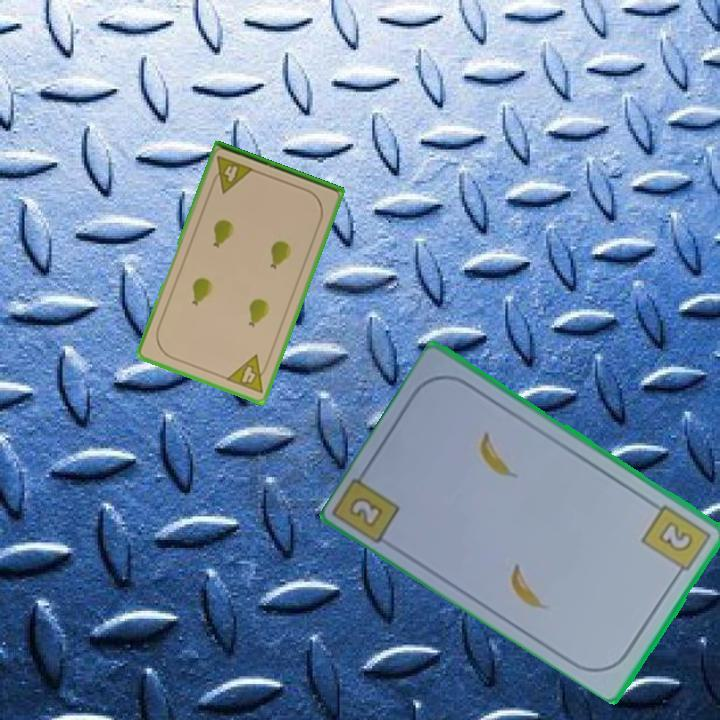2b: (639, 501, 715, 580), (348, 496, 383, 527)
4p: (222, 351, 273, 396), (207, 152, 257, 196)
